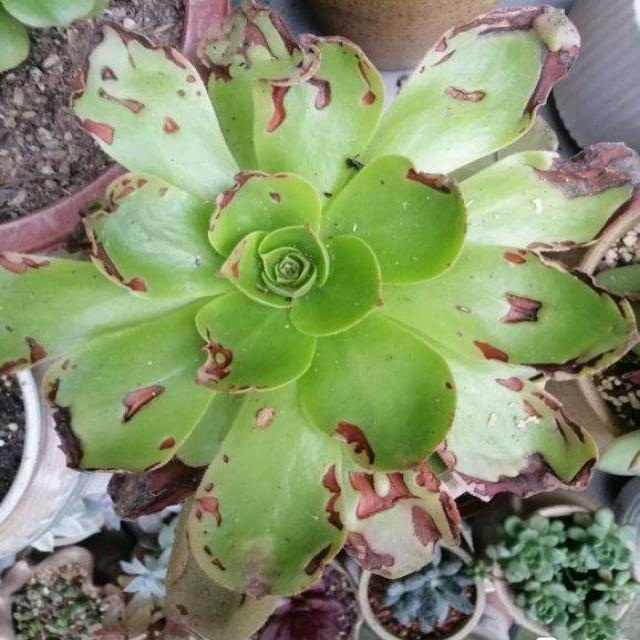-: (536, 142, 640, 196), (456, 462, 594, 497), (82, 242, 153, 294), (347, 471, 419, 520), (46, 378, 84, 467), (348, 531, 401, 571), (118, 382, 168, 424), (403, 164, 461, 200), (329, 422, 378, 463), (501, 290, 547, 331), (430, 489, 465, 541), (190, 477, 226, 527), (200, 340, 236, 386), (0, 336, 42, 375), (262, 83, 294, 132), (322, 464, 345, 532), (469, 338, 514, 366), (549, 410, 585, 444), (81, 116, 116, 147), (441, 83, 491, 104), (485, 376, 534, 396), (312, 72, 336, 110), (307, 542, 335, 574), (498, 250, 526, 266), (160, 115, 182, 135), (158, 434, 178, 454), (360, 89, 379, 109), (100, 63, 120, 82), (210, 554, 228, 572), (270, 188, 284, 204), (218, 455, 232, 465), (204, 543, 214, 557), (445, 381, 455, 393)
